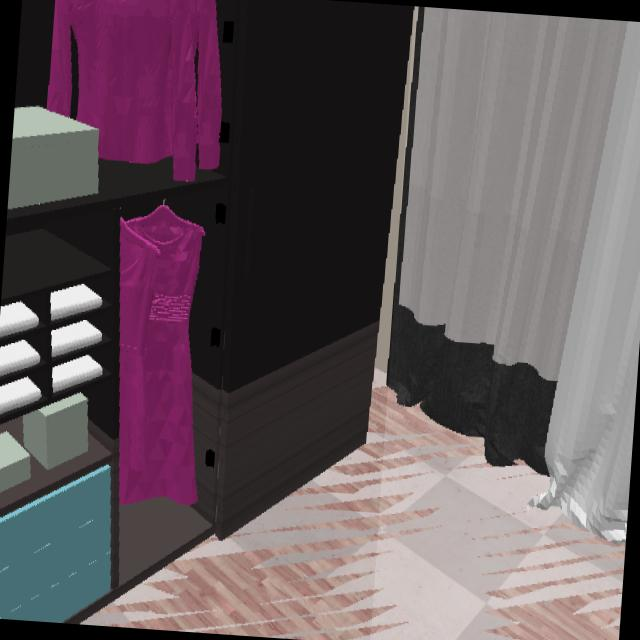wardrobe: (0, 0, 414, 624)
